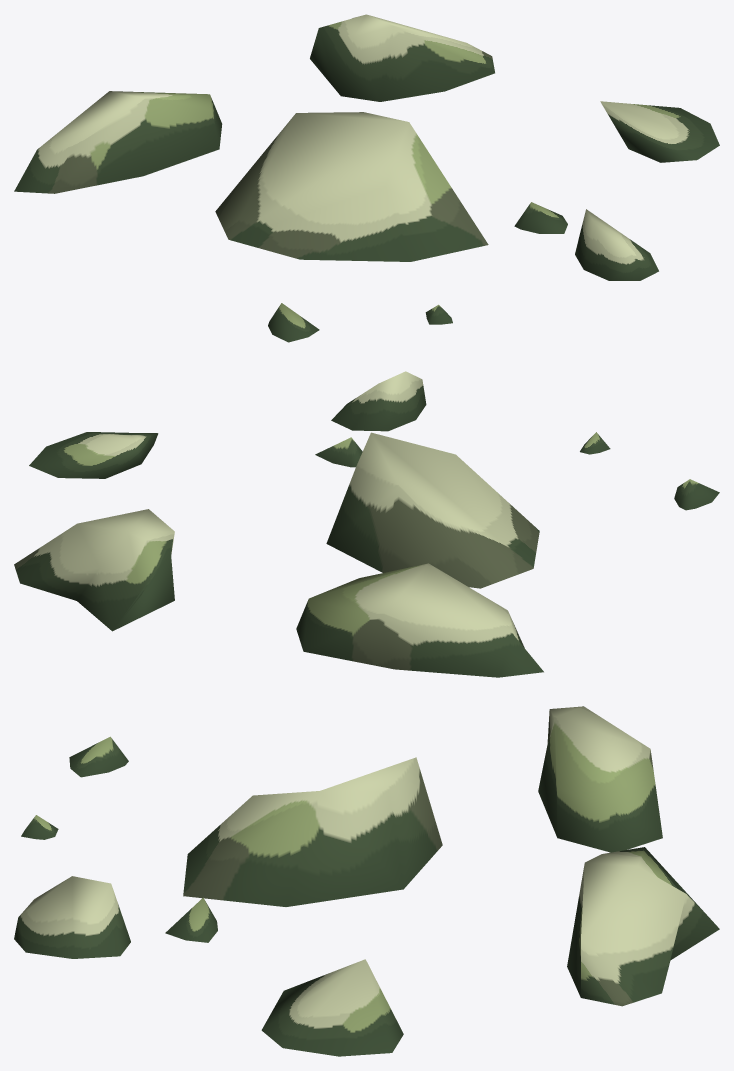
Rendered from Rock 2x 2 6_preview_3DS_simplified.glb.
3 renders of one model, top to bottom at view 1: azimuth 30°, elevation 25°; view 2: azimuth 150°, elevation 25°; view 3: azimuth 270°, elevation 25°, orthographic. The views are drawn at different scales.
Parts seen in each view (by area): view 1: Marine Park Empire model; view 2: Marine Park Empire model; view 3: Marine Park Empire model.
Part boxes in pixels (x1,y1,x2,y2): Marine Park Empire model: [14, 14, 719, 342]; Marine Park Empire model: [14, 371, 719, 677]; Marine Park Empire model: [14, 706, 719, 1056].
Size of the model in its own units: 54.84 by 7.48 by 49.93.
1 material, 1 textured.
